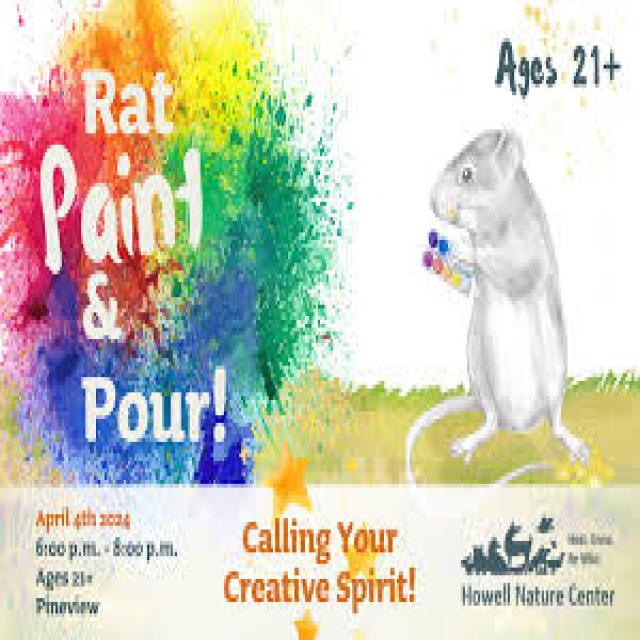rat: (403, 122, 593, 480)
